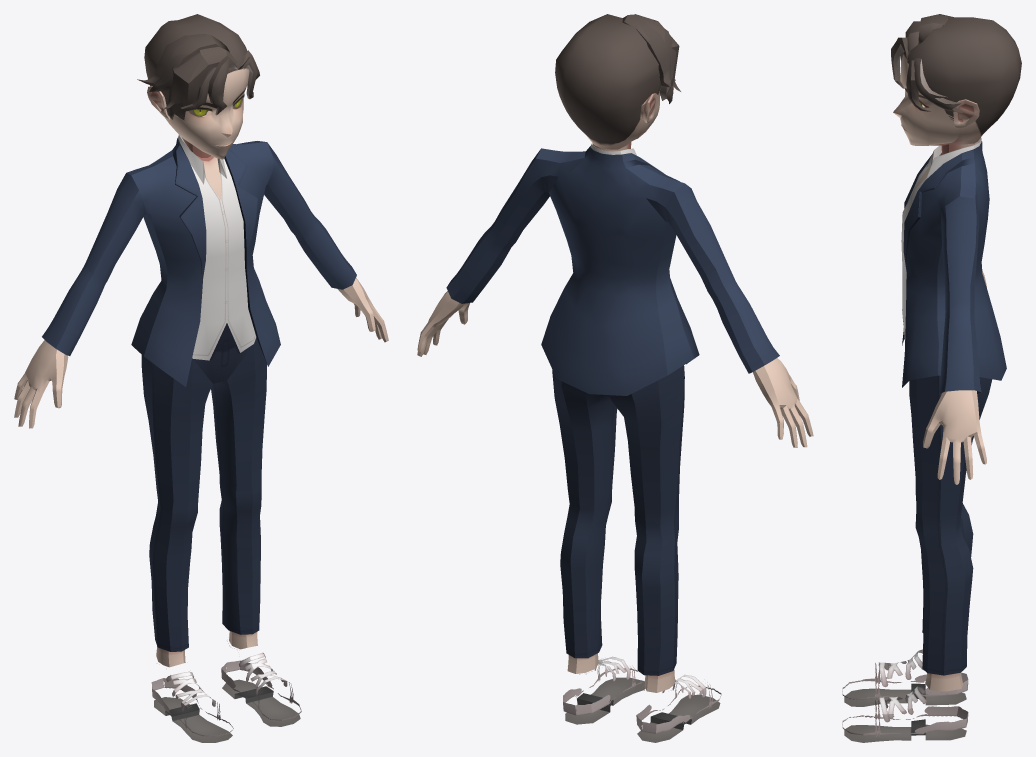
File: cha.FBX
The picture shows the model from 3 angles, left to right: view 1: azimuth 30°, elevation 25°; view 2: azimuth 150°, elevation 25°; view 3: azimuth 270°, elevation 25°; orthographic projection. The views are drawn at different scales.
Visible parts, largest first — view 1: body, head, Hair005, Hair006, Hair001; view 2: body, head, Hair006; view 3: body, head, Hair004, Hair001, Hair006, Hair003, Hair005.
Boxes of the visible parts, <box> form: body: <box>14,134,388,742</box>; head: <box>144,14,249,159</box>; Hair005: <box>163,46,237,120</box>; Hair006: <box>137,34,229,91</box>; Hair001: <box>208,56,237,115</box>; body: <box>417,142,813,742</box>; head: <box>555,14,661,149</box>; Hair006: <box>622,14,676,95</box>; body: <box>842,137,1006,742</box>; head: <box>893,17,1021,145</box>; Hair004: <box>911,58,962,113</box>; Hair001: <box>891,37,908,88</box>; Hair006: <box>918,14,953,44</box>; Hair003: <box>906,60,930,111</box>; Hair005: <box>905,21,920,54</box>.
Size of the model in its own units: 108 by 188 by 44.34.
